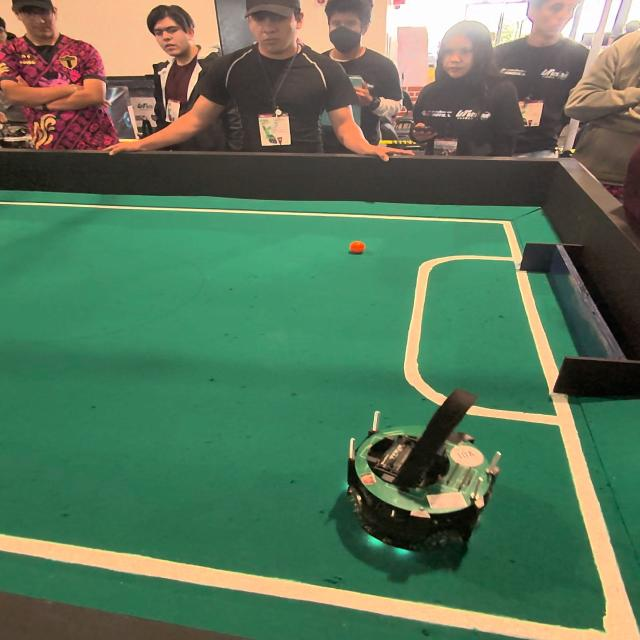Robot: (341, 381, 510, 569)
pelota: (343, 238, 371, 260)
